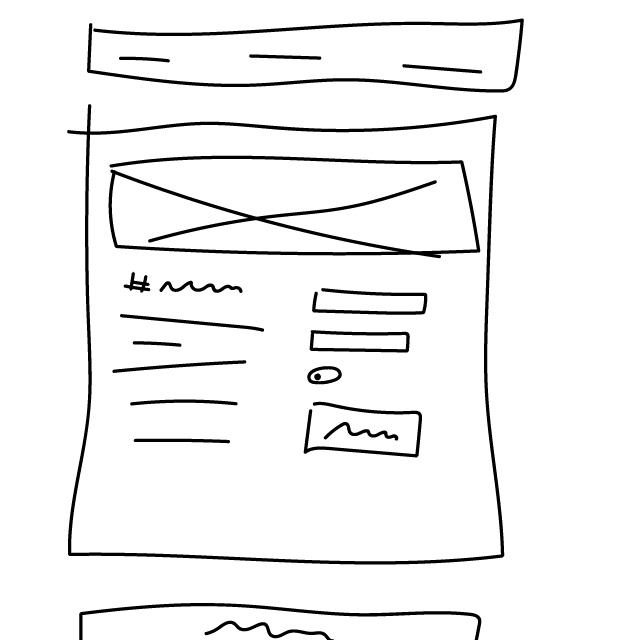button: (302, 396, 430, 463)
checkbox: (307, 365, 347, 387)
container: (64, 103, 515, 575)
footer: (71, 591, 500, 640)
frame: (106, 154, 482, 261)
heading: (124, 267, 246, 306)
input: (309, 284, 434, 322), (306, 324, 416, 356)
nav: (84, 13, 526, 99)
text: (111, 313, 272, 454)
